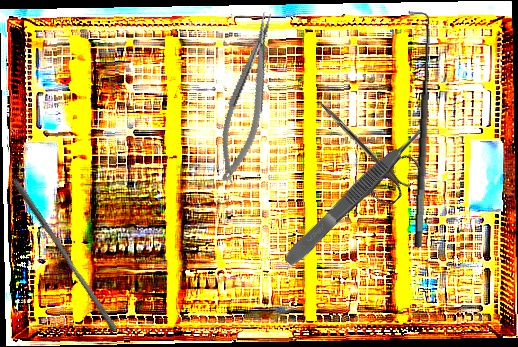Hook Surgical: (395, 9, 438, 248)
Iris Scissors: (299, 84, 426, 211)
Needle Holder: (207, 8, 290, 188)
Pusher: (5, 176, 124, 334)
Tissue Forceps: (280, 124, 429, 270)
